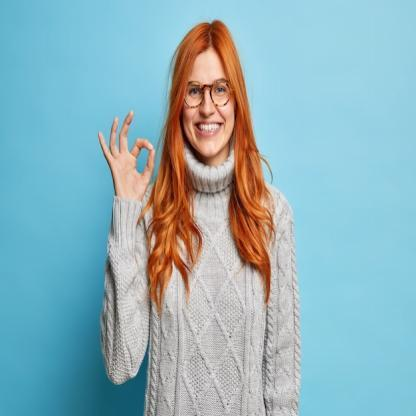ok: (94, 106, 156, 211)
